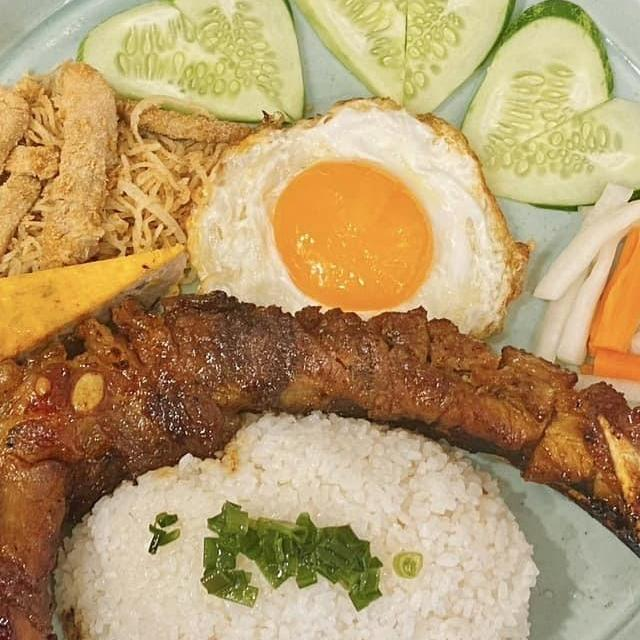bi: (0, 78, 226, 283)
com: (42, 407, 542, 640)
dua chua: (526, 178, 640, 450)
suon: (253, 300, 640, 574), (71, 285, 263, 497), (0, 333, 84, 640)
trung: (179, 89, 541, 359), (0, 238, 192, 452)
